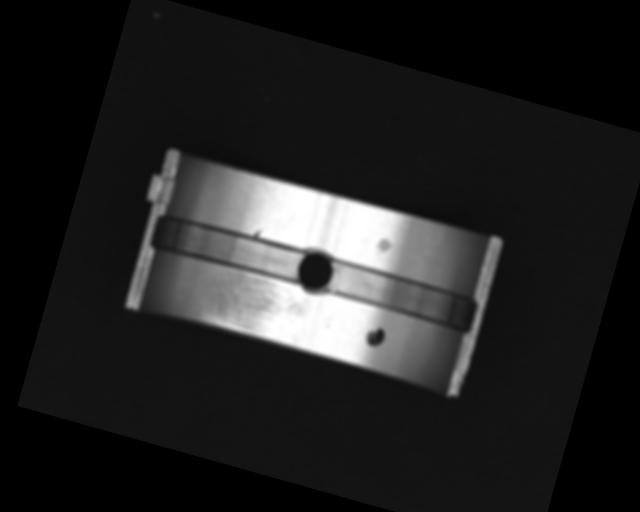blot: (362, 325, 387, 351)
bruise: (373, 235, 395, 257), (253, 227, 262, 239)
gap: (148, 207, 310, 289), (322, 257, 479, 335)
hole: (292, 245, 340, 298)
scratch: (202, 265, 312, 346)
